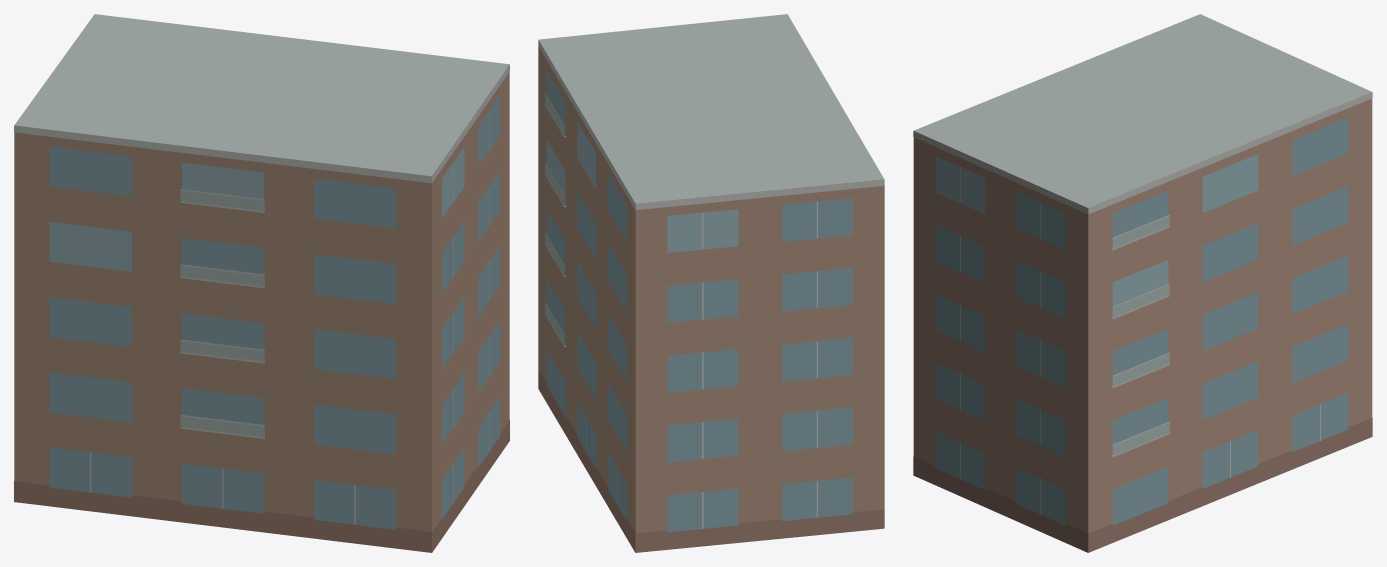
Rendered from survey-upis-33031613.glb.
The picture shows the model from 3 angles, left to right: view 1: azimuth 30°, elevation 25°; view 2: azimuth 150°, elevation 25°; view 3: azimuth 270°, elevation 25°; orthographic projection. The views are drawn at different scales.
Visible parts, largest first — view 1: survey-upis-33031613.tmp; view 2: survey-upis-33031613.tmp; view 3: survey-upis-33031613.tmp.
Part boxes in pixels (x1,y1,x2,y2): survey-upis-33031613.tmp: [14, 14, 509, 552]; survey-upis-33031613.tmp: [538, 14, 884, 552]; survey-upis-33031613.tmp: [913, 14, 1372, 552].
Size of the model in its own units: 16.07 by 13.3 by 16.06.
